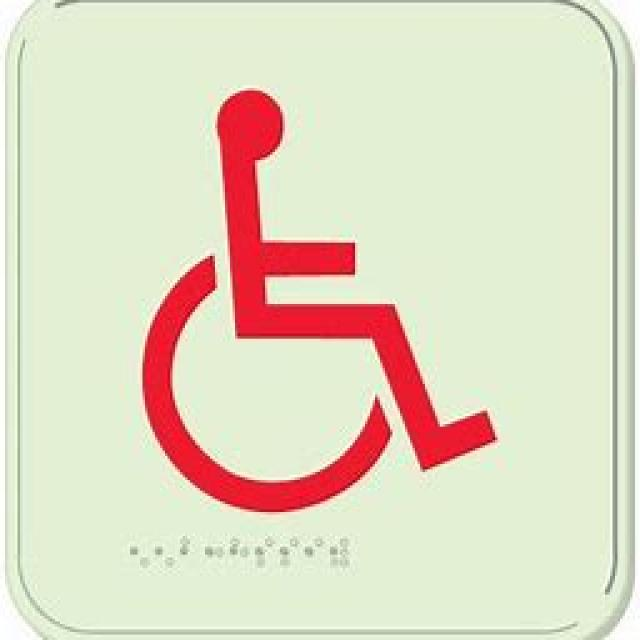car-handicap-placard: (138, 86, 500, 516)
